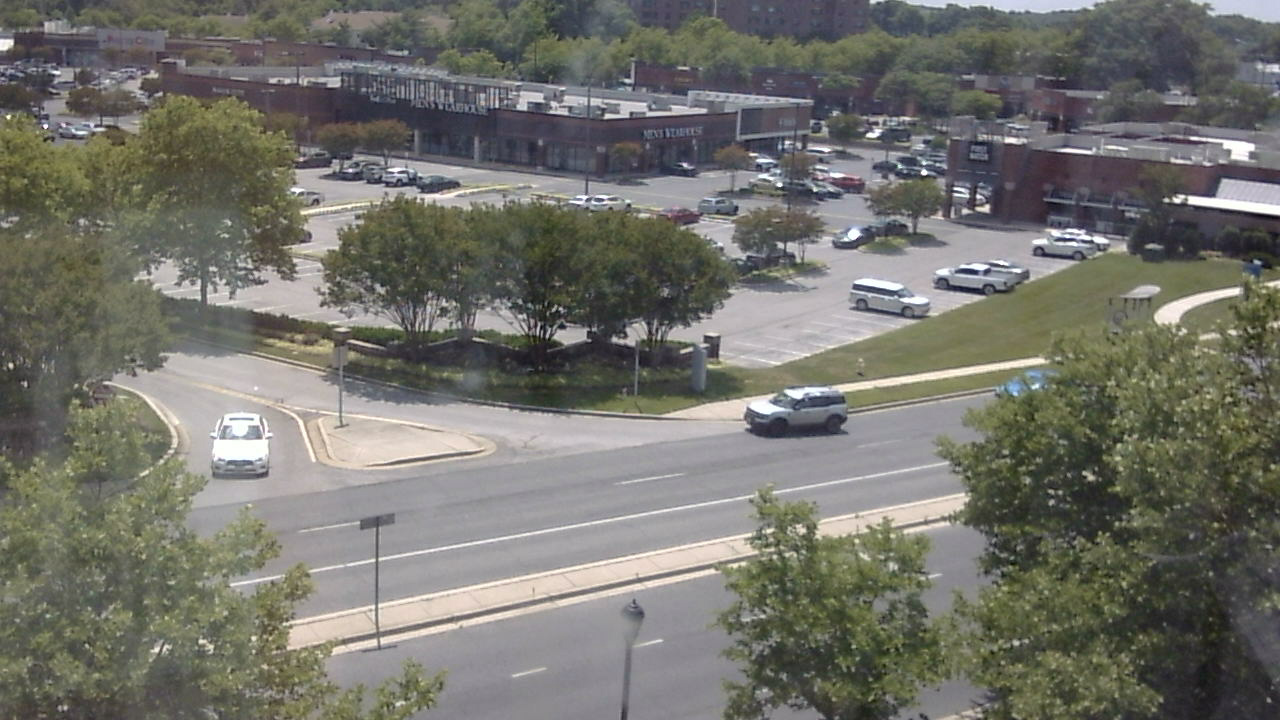Car: (739, 380, 862, 453), (211, 409, 281, 492)
